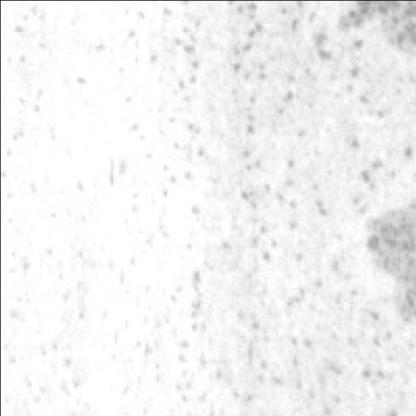pitted_surface: (122, 6, 410, 406), (2, 14, 102, 414)
